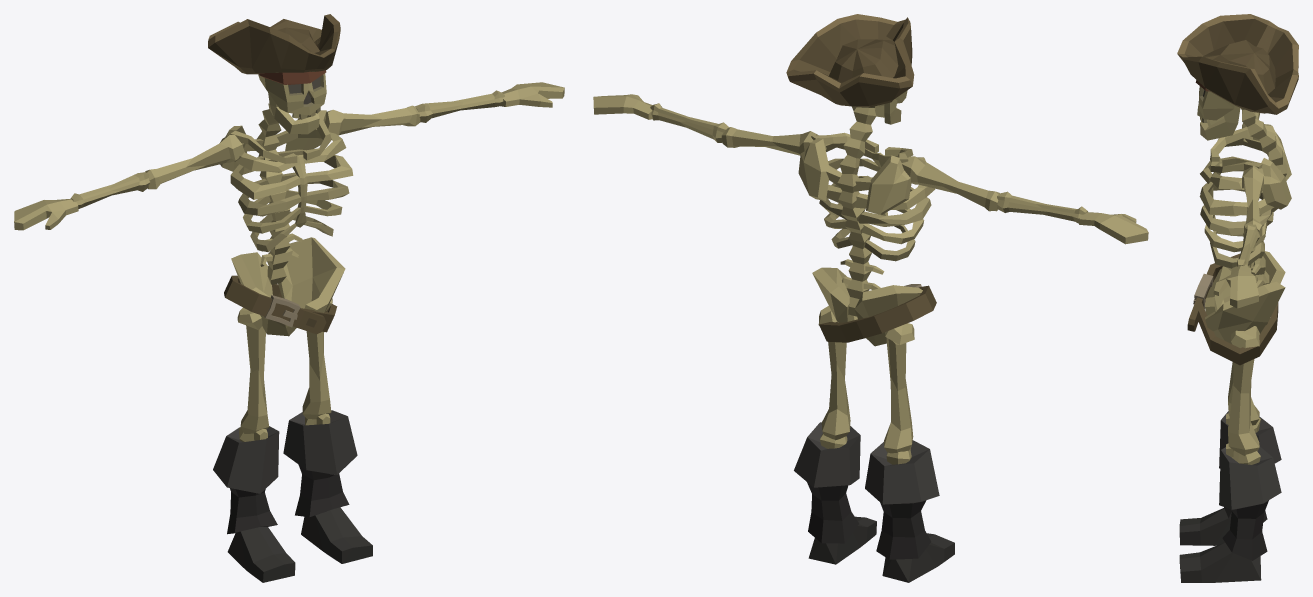
Rendered from Sceleton_4.fbx.
3 renders of one model, left to right at view 1: azimuth 30°, elevation 25°; view 2: azimuth 150°, elevation 25°; view 3: azimuth 270°, elevation 25°, orthographic. The views are drawn at different scales.
Parts seen in each view (by area): view 1: Sceleton_4; view 2: Sceleton_4; view 3: Sceleton_4.
Boxes of the visible parts, x1,y1,x2,y2 form: Sceleton_4: (14,14,564,582); Sceleton_4: (593,14,1148,582); Sceleton_4: (1177,14,1298,582).
Bounding box in the file's own units: 197 × 183 × 38.32.
